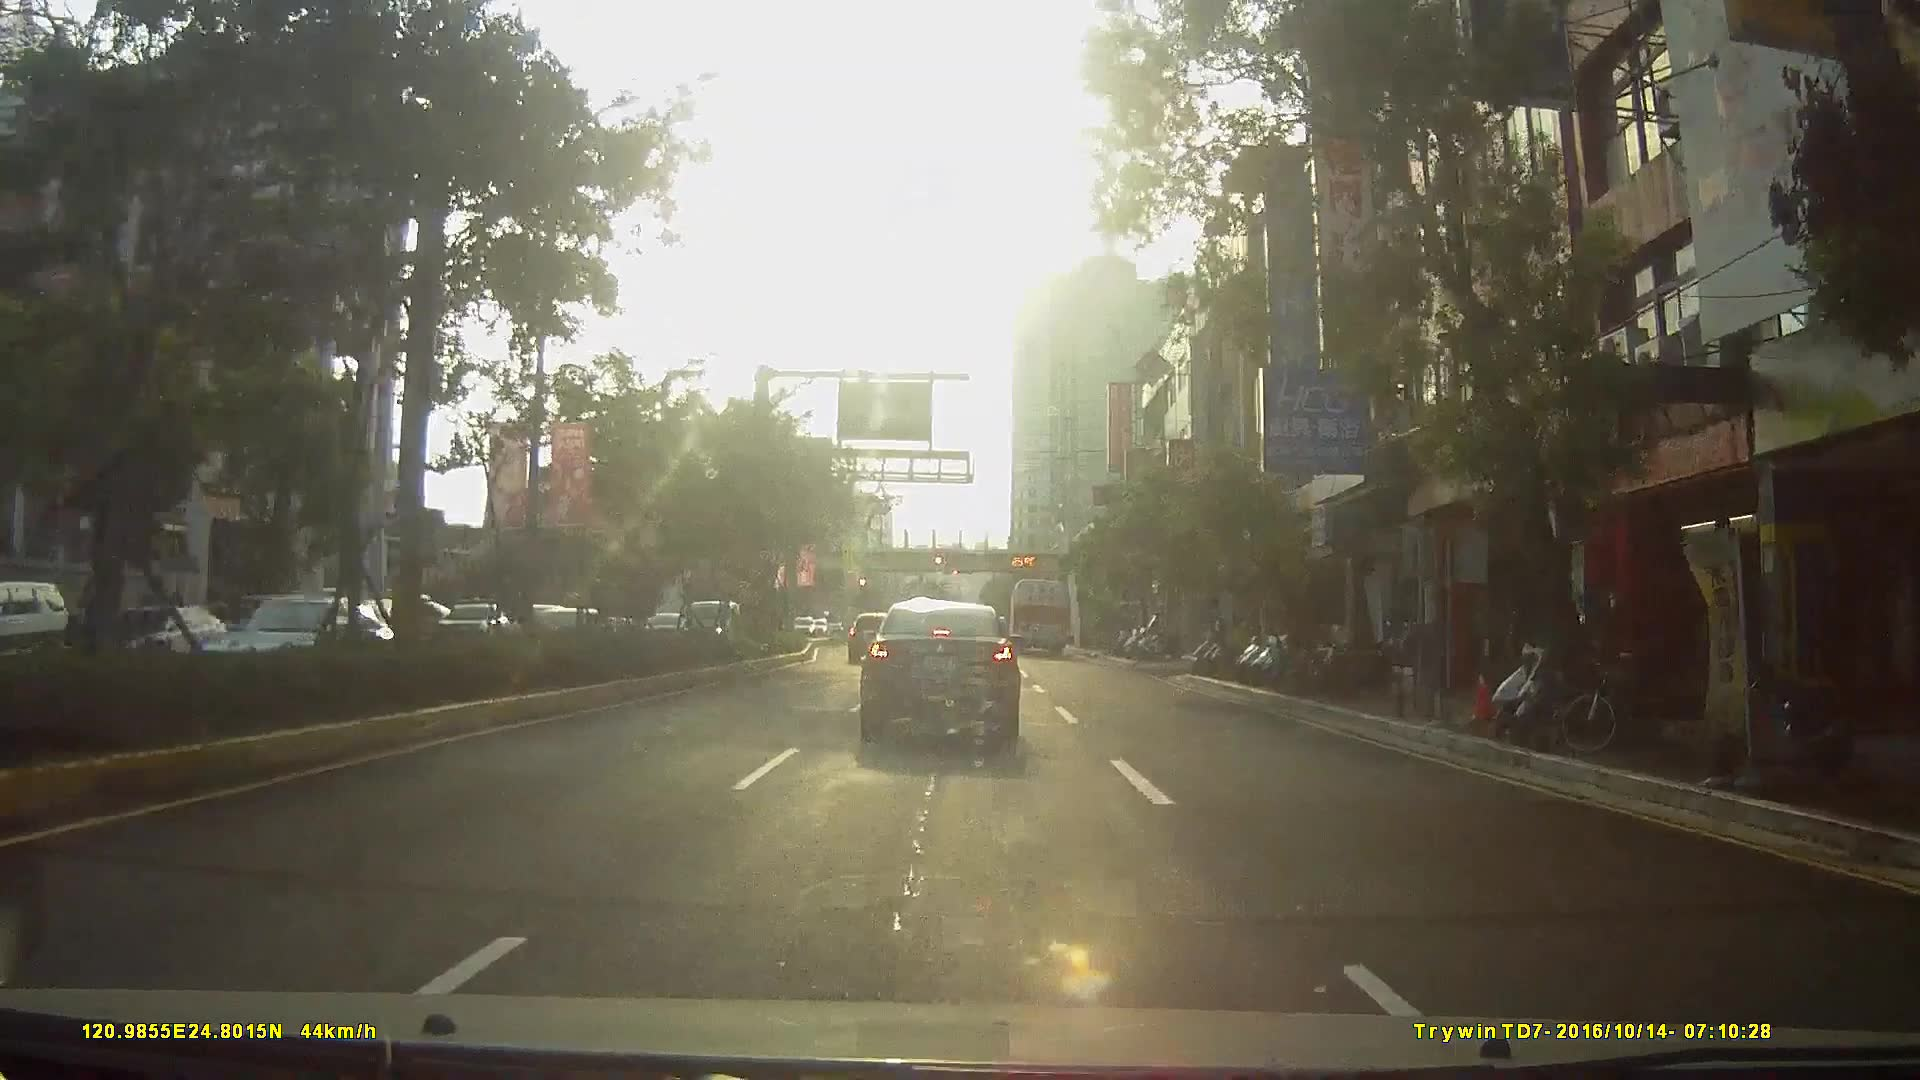vehicle: (858, 603, 1021, 744), (88, 605, 237, 676), (212, 595, 316, 663), (0, 579, 63, 673), (1006, 578, 1073, 657), (313, 599, 400, 659), (431, 603, 504, 645), (847, 611, 895, 662)
